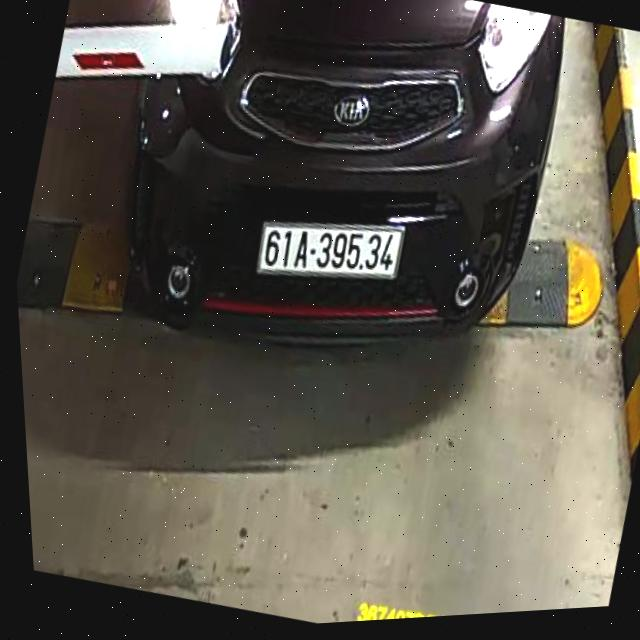car: (65, 0, 601, 426)
plate: (252, 194, 411, 307)
